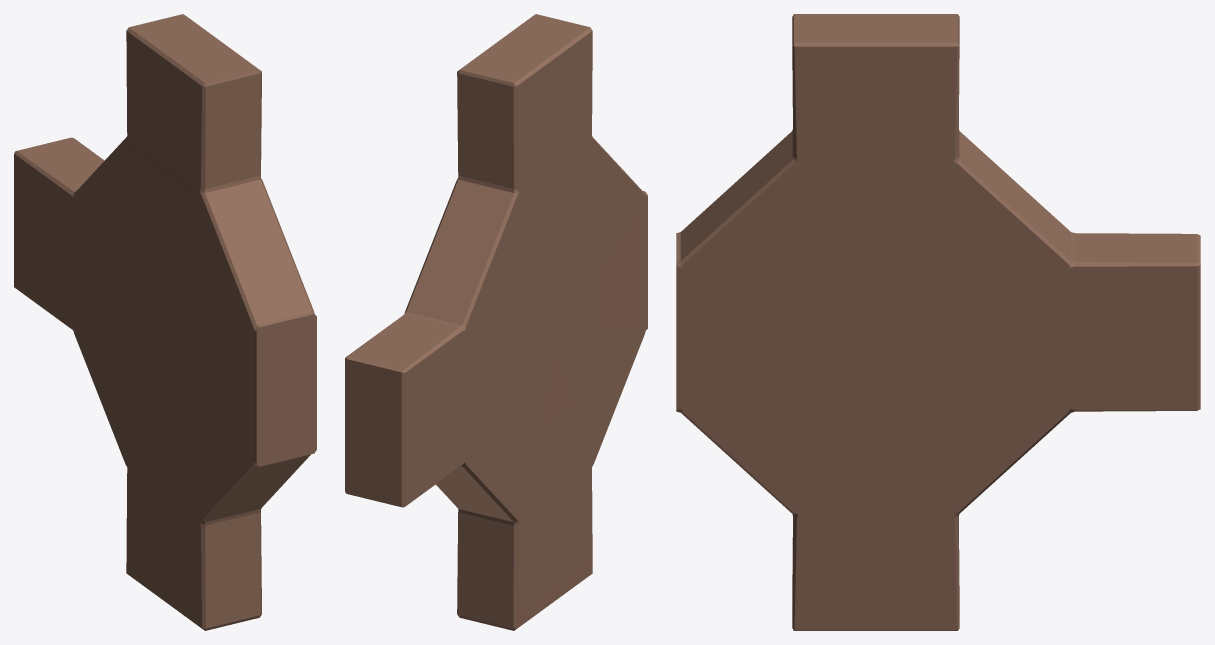
Rendered from Pipe_Diamond_Cut_02.fbx.
3 views of the same model, side by side, from view 1: azimuth 30°, elevation 25°; view 2: azimuth 150°, elevation 25°; view 3: azimuth 270°, elevation 25° (orthographic). The views are drawn at different scales.
Visible parts, largest first — view 1: Pipe_Diamond_Cut_02; view 2: Pipe_Diamond_Cut_02; view 3: Pipe_Diamond_Cut_02.
Boxes of the visible parts, x1,y1,x2,y2 form: Pipe_Diamond_Cut_02: (14,14,316,630); Pipe_Diamond_Cut_02: (345,14,647,630); Pipe_Diamond_Cut_02: (676,14,1200,630).
Bounding box in the file's own units: 0.9889 × 8.5 × 6.86.
